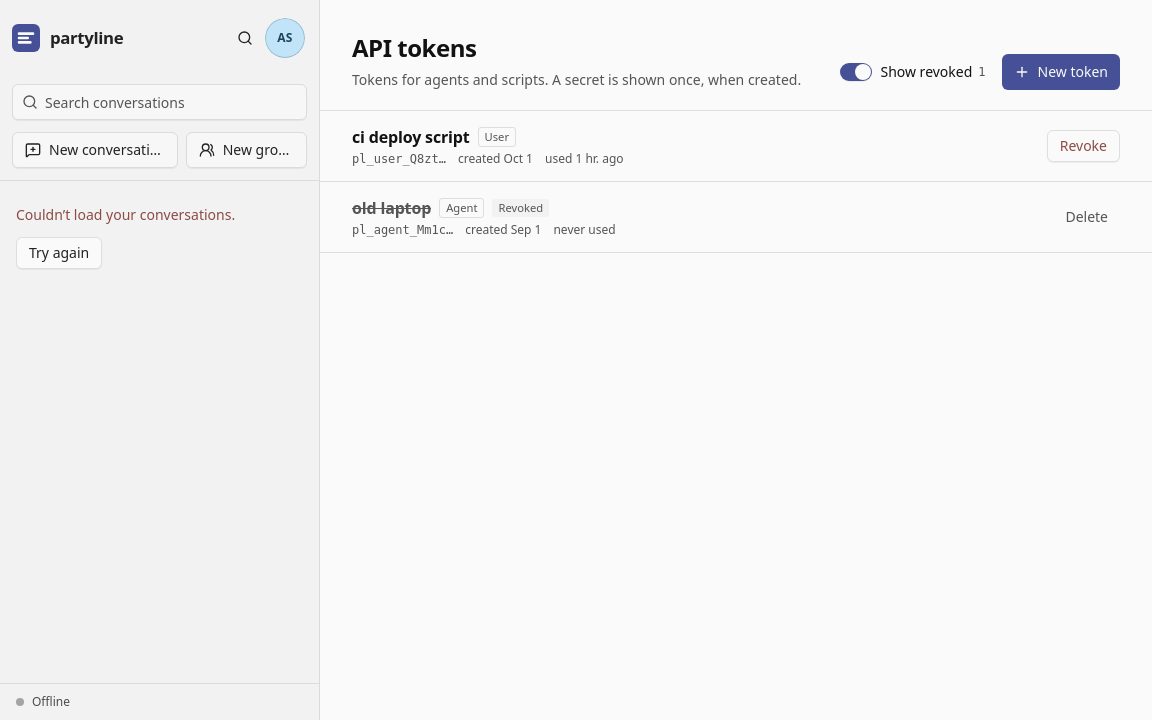
Test: revoked tokens (TOKH-04) › deletes a revoked token after confirmation and removes its row
The width and height of the screenshot is (1152, 720).
expect the list item "old laptop" is shown: met, box [352,197,1120,238]
Click the button with aria-label "Delete old laptop". click: (1087, 217)
box: [1053,201,1120,233]
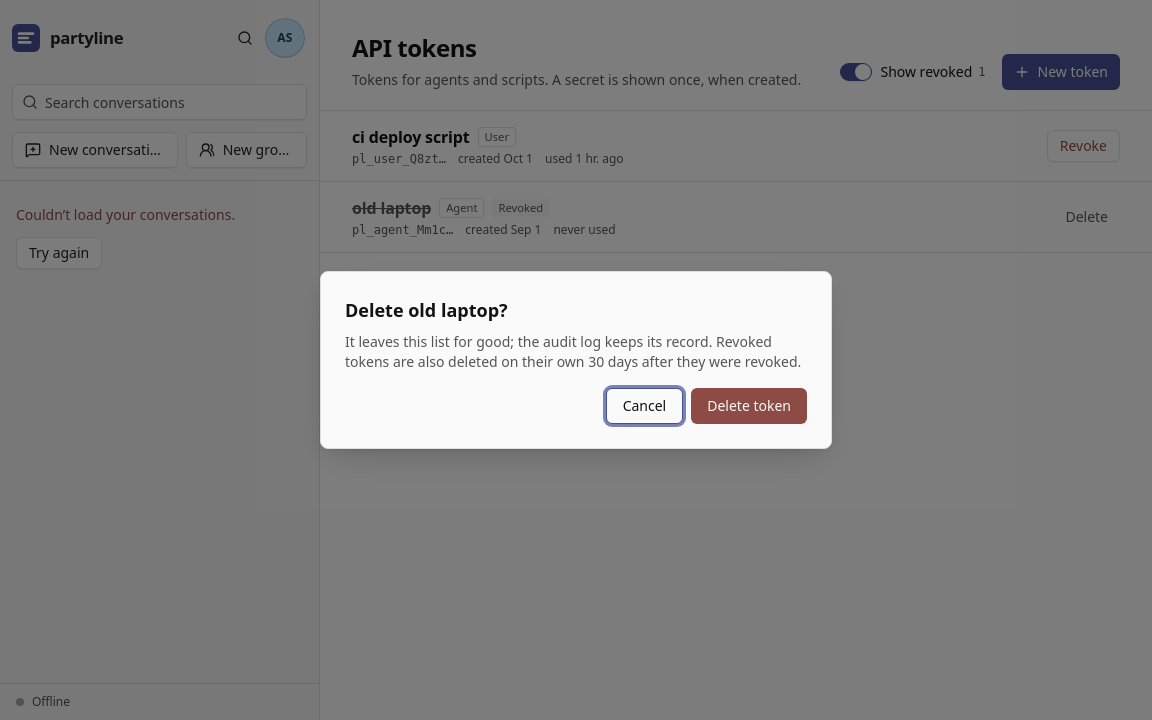
Click the button "Delete token". click: (749, 406)
box: [691,388,807,424]
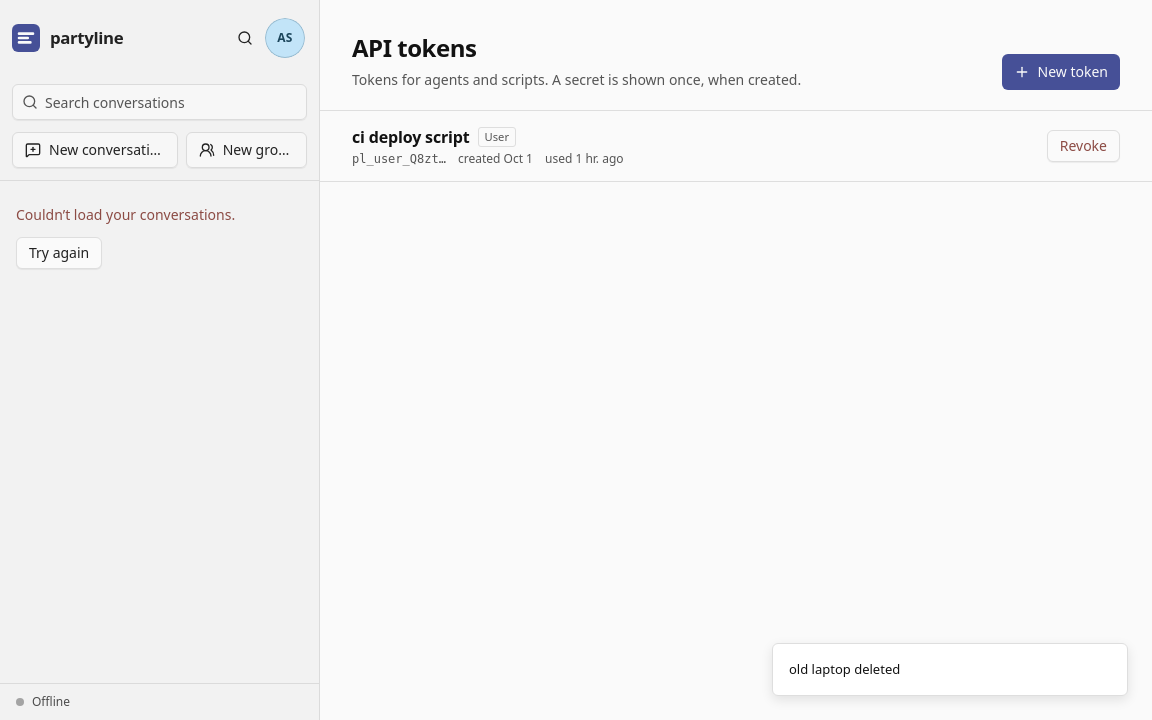
expect the list item "ci deploy script" is shown: met, box [352,126,1120,167]
expect the dialog is gone: met
